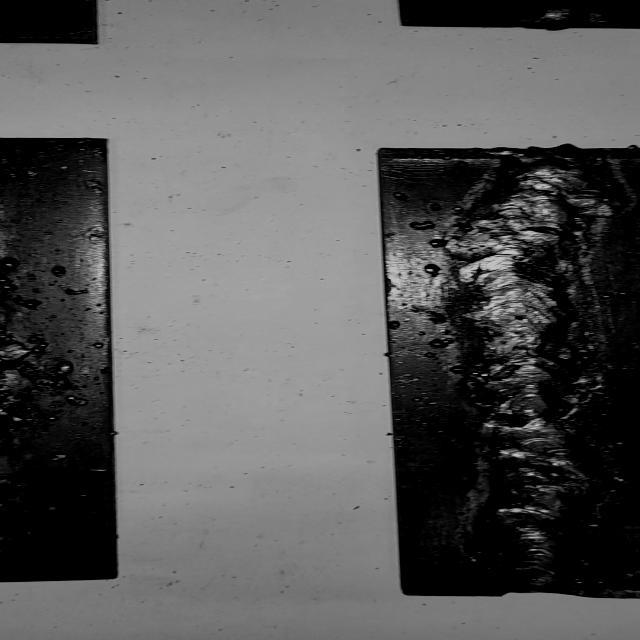Defect: (433, 151, 631, 595), (0, 328, 85, 434)
Welding Line: (452, 156, 617, 586)
Workpiece: (372, 145, 640, 601), (0, 134, 116, 584)
